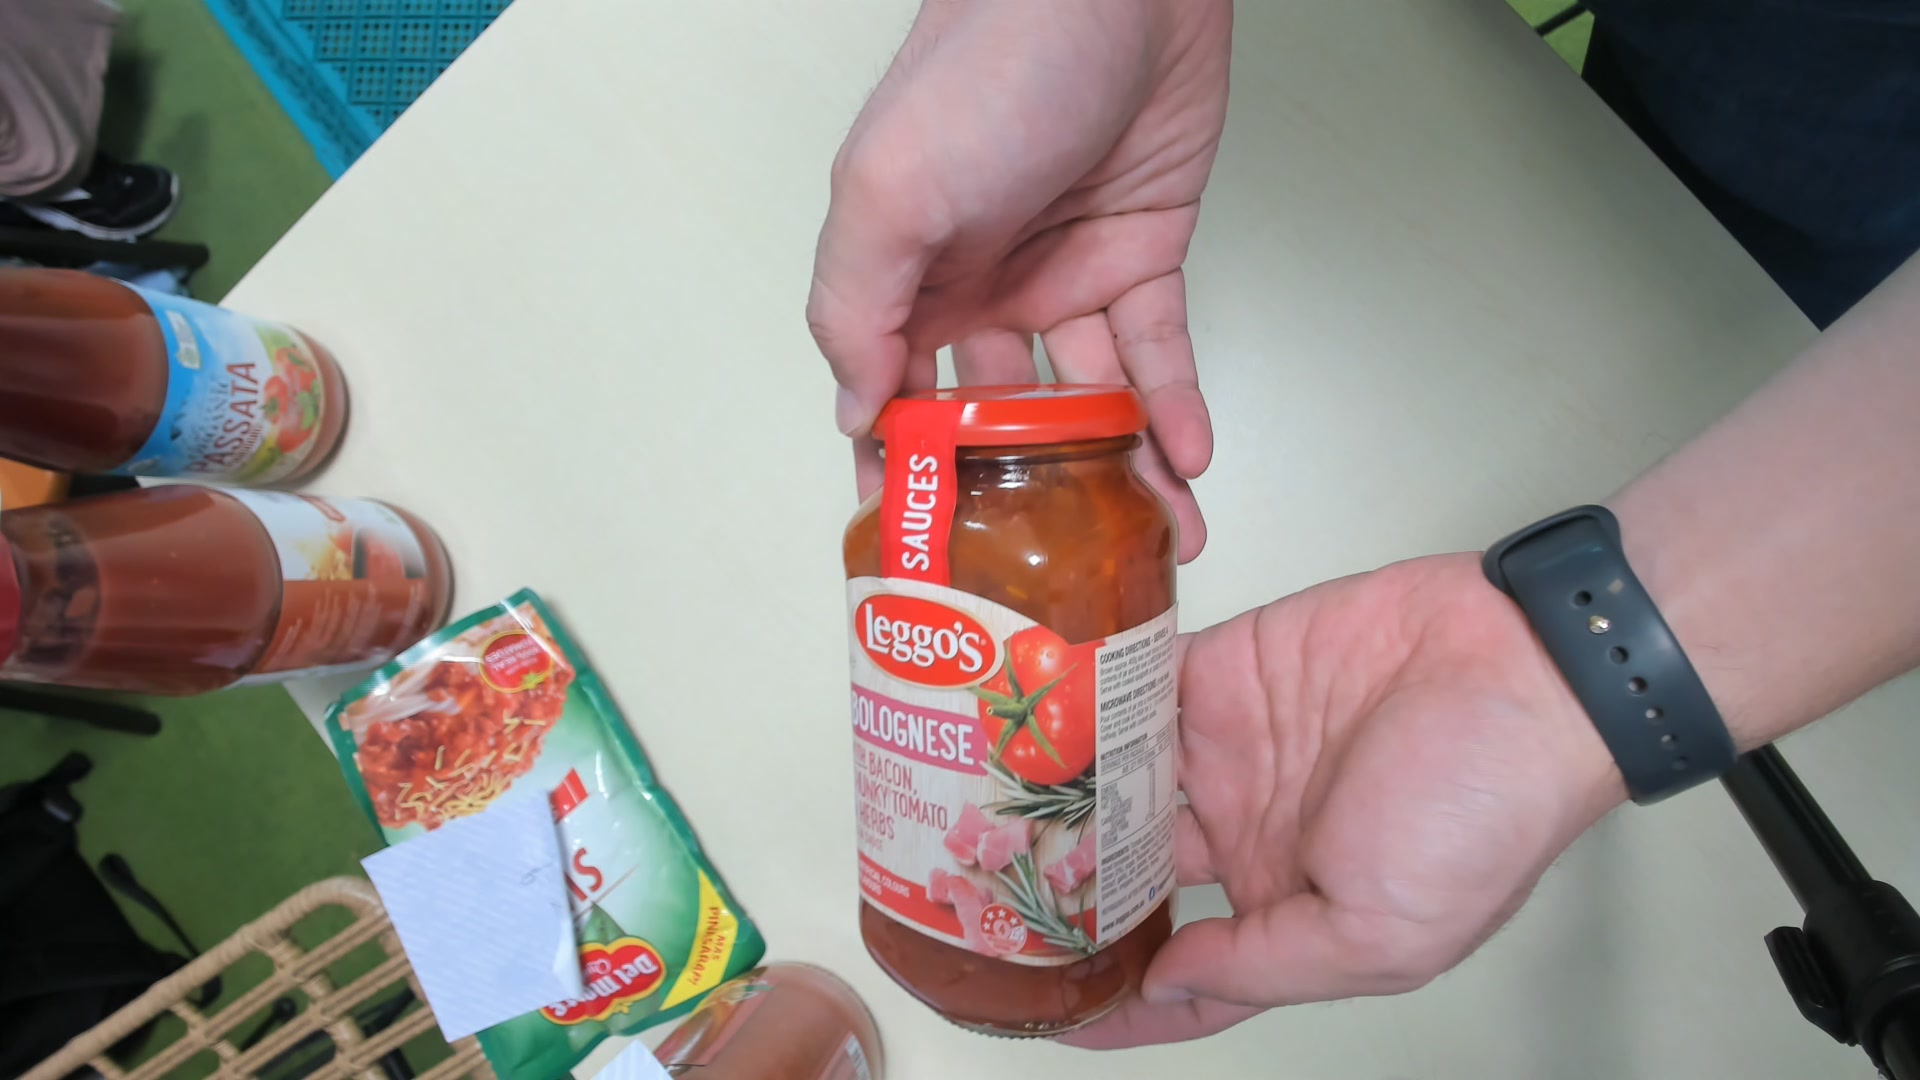PastaSauce_500-599g_Halal_NonHealthy: (840, 384, 1179, 1036)
